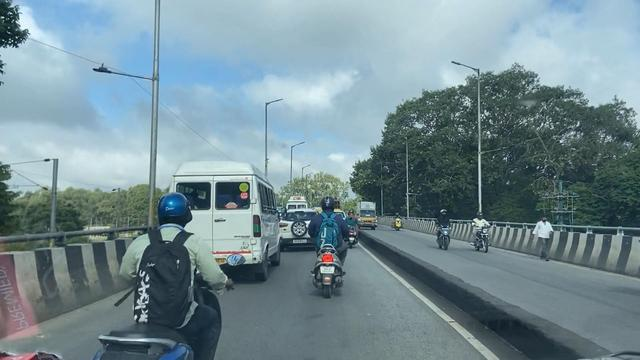LMV: (304, 196, 346, 306), (344, 210, 355, 246)
